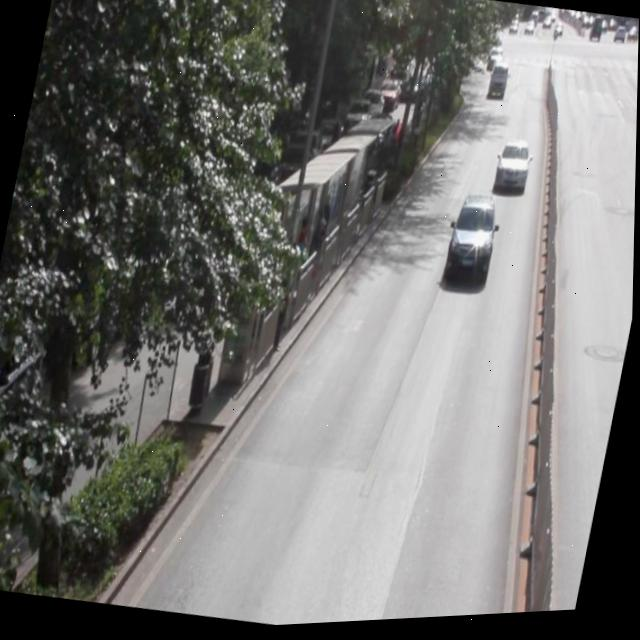car: (443, 193, 500, 286), (492, 142, 532, 197)
